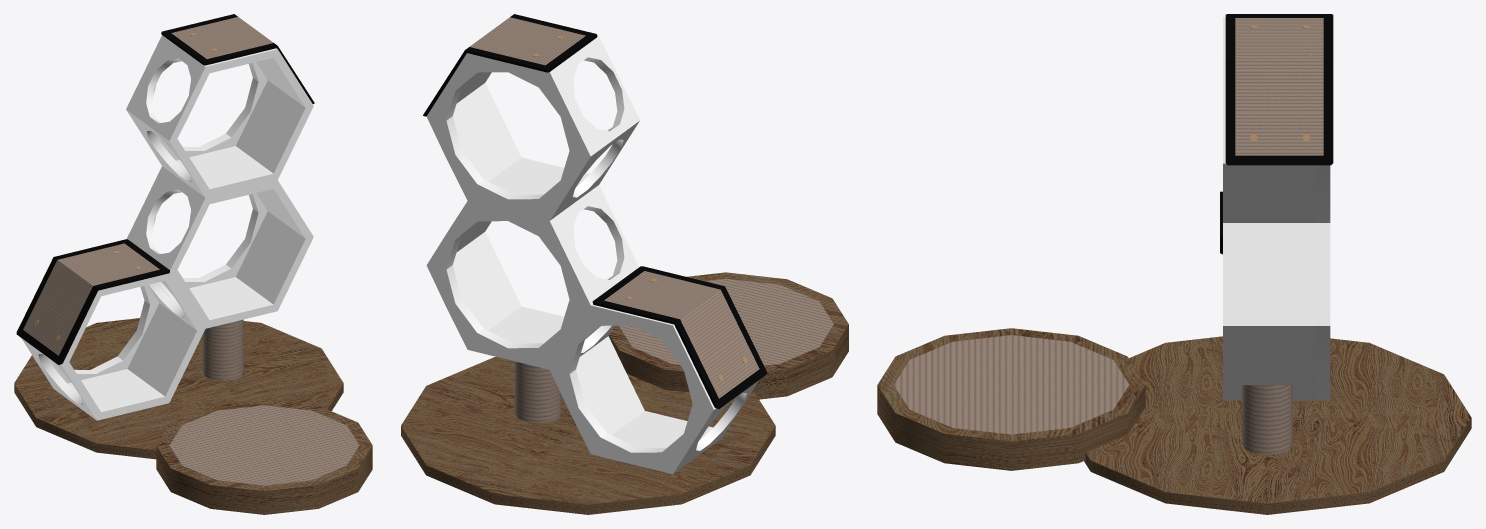
The model's file is Mewwy Go Round.fbx.
The picture shows the model from 3 angles, left to right: view 1: azimuth 30°, elevation 25°; view 2: azimuth 150°, elevation 25°; view 3: azimuth 270°, elevation 25°; orthographic projection. The views are drawn at different scales.
Visible parts, largest first — view 1: Mewwy_Go_Round2_Mewwy_Go_Round_Part_1_pCylinder26; view 2: Mewwy_Go_Round2_Mewwy_Go_Round_Part_1_pCylinder26; view 3: Mewwy_Go_Round2_Mewwy_Go_Round_Part_1_pCylinder26.
Part boxes in pixels (x1,y1,x2,y2): Mewwy_Go_Round2_Mewwy_Go_Round_Part_1_pCylinder26: [14, 14, 372, 514]; Mewwy_Go_Round2_Mewwy_Go_Round_Part_1_pCylinder26: [401, 14, 848, 514]; Mewwy_Go_Round2_Mewwy_Go_Round_Part_1_pCylinder26: [877, 14, 1471, 514].
Bounding box in the file's own units: 85.33 × 96.93 × 124.
